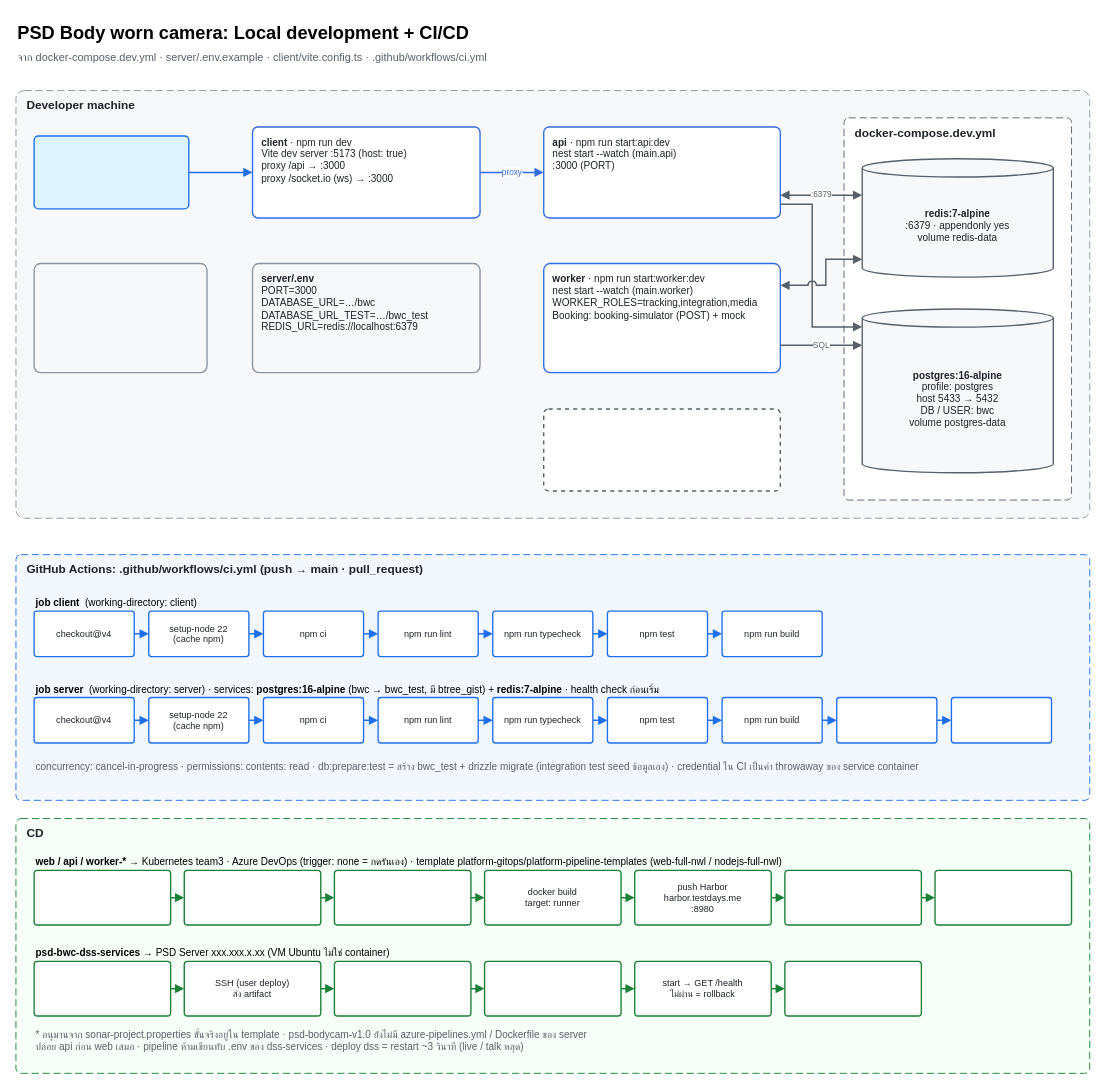
This 1106x1089 diagram has some shape labels left out. Here are the shapes that lost their labels. From the top down, the centre of each, then its label:
(x=111, y=172): Browser http://localhost:5173
(x=120, y=317): Tests npm test (Vitest unit) npm run test:int → DB ชื่อลงท้าย _test + Redis
(x=662, y=449): หรือ PostgreSQL local :5432 (ไม่ต้องใช้ profile postgres)
(x=886, y=719): npm run db:prepare:test
(x=1001, y=719): npm run test:int
(x=102, y=897): Azure DevOps pipeline
(x=252, y=897): npm ci · vitest + coverage (enforceTests)
(x=402, y=897): SonarQube* (sonar-project .properties)
(x=853, y=897): update gitops-dev-nwl / gitops-uat-nwl
(x=1003, y=897): K8s team3 sync จาก gitops
(x=102, y=988): build artifact .tar.gz
(x=402, y=988): sudo psd-bwc-dss-deploy (sudoers สคริปต์เดียว)
(x=552, y=988): stop → แทนโค้ด (.env / venv คงไว้) → setup.sh
(x=853, y=988): systemd psd-bwc-dss-services
